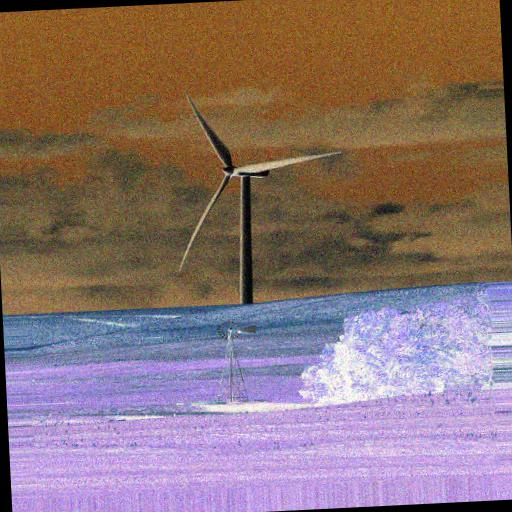wind turbine: (177, 92, 346, 305)
